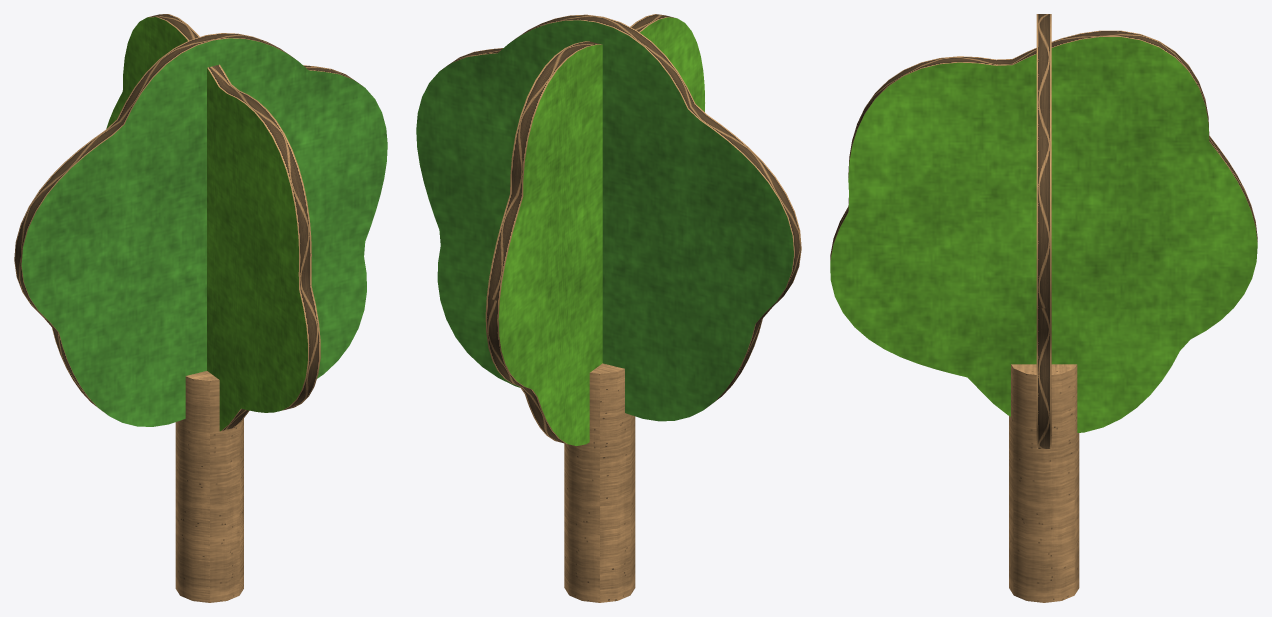
File: tree_round_small_00.gltf
3 renders of one model, left to right at view 1: azimuth 30°, elevation 25°; view 2: azimuth 150°, elevation 25°; view 3: azimuth 270°, elevation 25°, orthographic. The views are drawn at different scales.
Visible parts, largest first — view 1: tree_round_small_00; view 2: tree_round_small_00; view 3: tree_round_small_00.
Boxes of the visible parts, left/top/right/bottom form: tree_round_small_00: left=14, top=14, right=387, bottom=602; tree_round_small_00: left=416, top=14, right=801, bottom=602; tree_round_small_00: left=830, top=14, right=1257, bottom=602.
Bounding box in the file's own units: 0.8633 × 1.24 × 0.8531.
4 materials, 4 textured.
